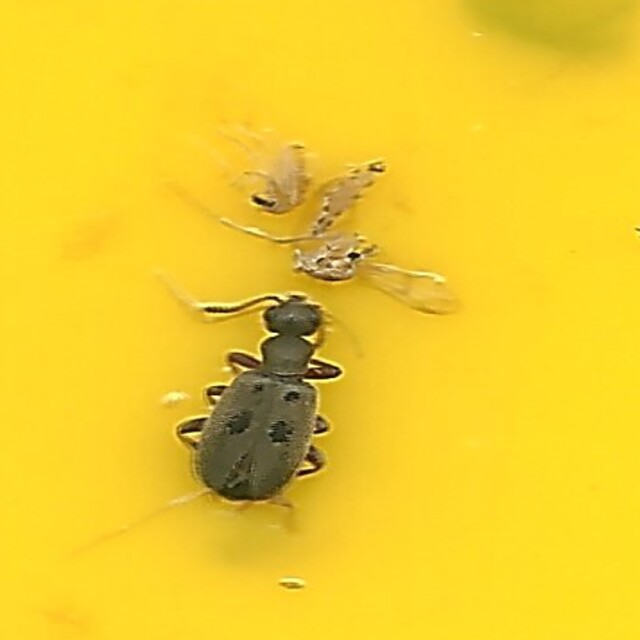Coleoptera: (179, 291, 346, 506)
Nematocera: (281, 163, 461, 315), (233, 134, 317, 224)
